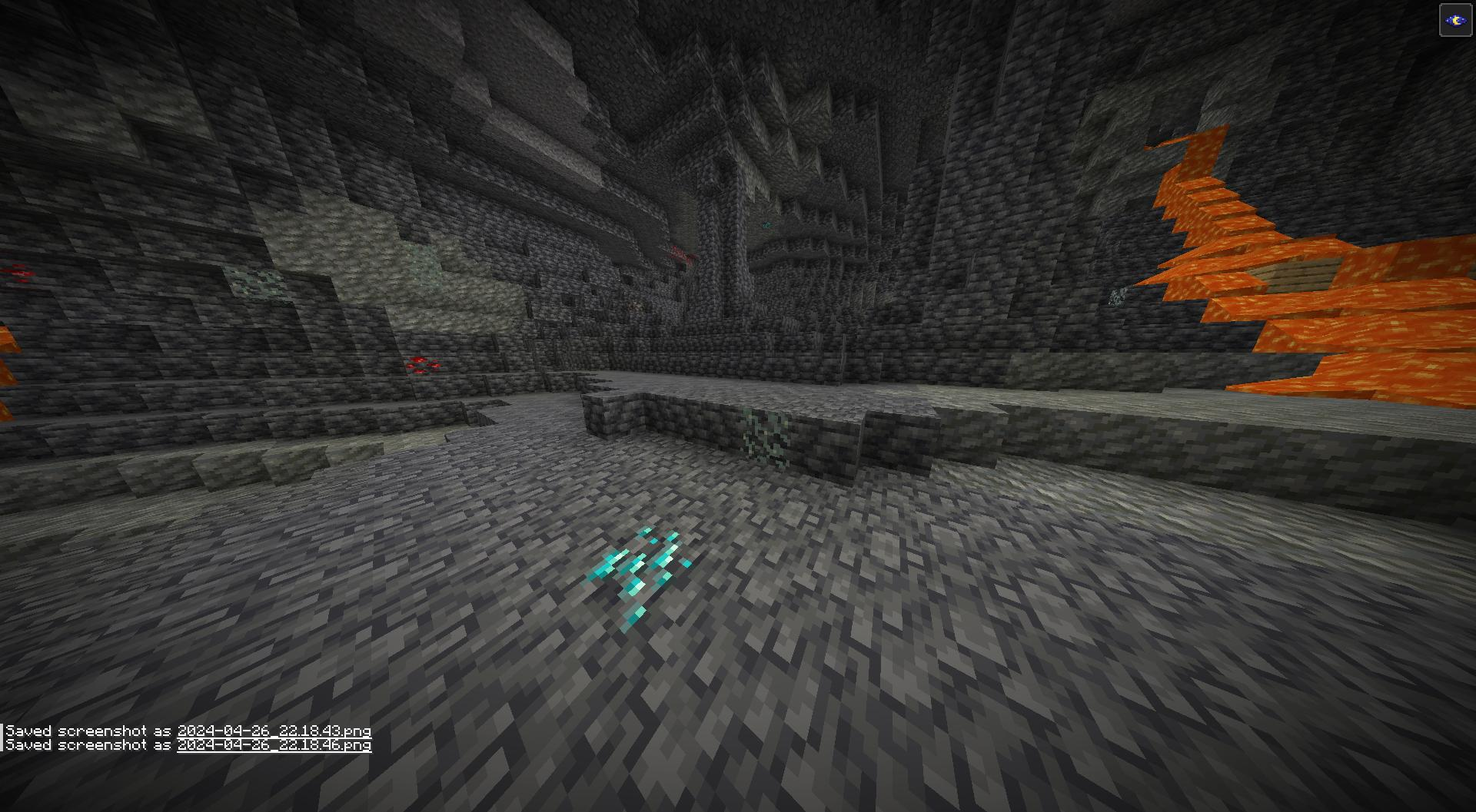diamond ore: (582, 529, 698, 631), (759, 217, 778, 234)
iron ore: (627, 299, 647, 314)
redstone ore: (0, 258, 44, 293), (400, 350, 443, 378), (667, 243, 701, 267)
